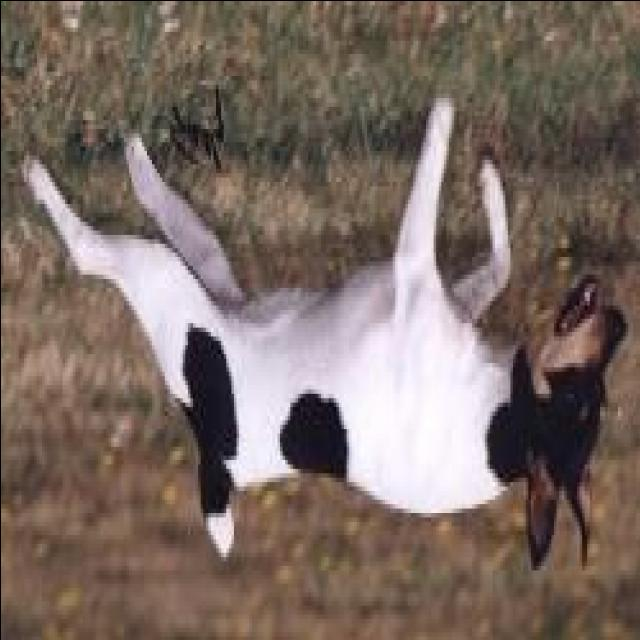toy_terrier: (23, 92, 625, 570)
